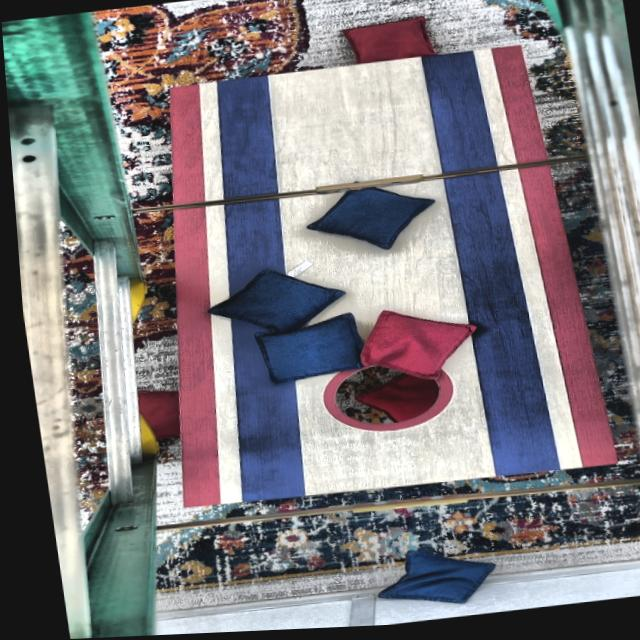blue-bean-bag: (296, 176, 435, 262), (197, 262, 343, 343), (363, 545, 490, 615), (245, 315, 357, 388)
board: (165, 51, 573, 506)
hole: (310, 352, 451, 440)
red-bean-bag: (344, 303, 476, 391), (339, 19, 435, 68), (127, 388, 177, 445)
red-bean-bag-in-hole: (346, 373, 435, 430)
